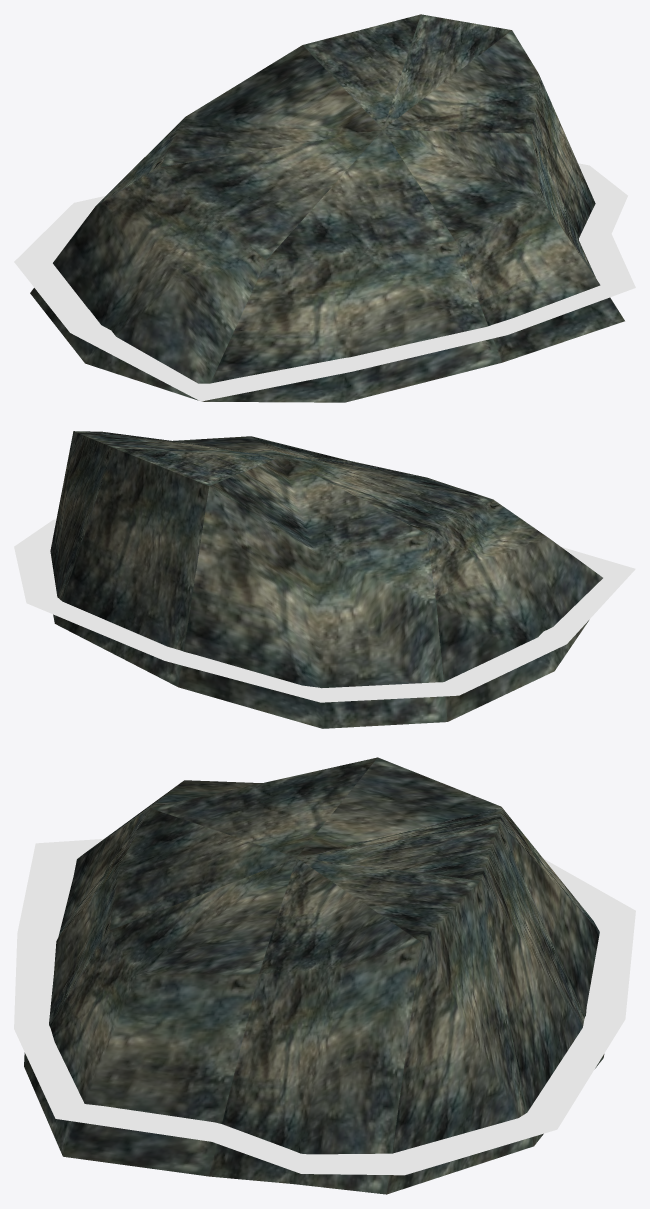
The model's file is pir_m_are_isl_rockSmall_dock_lod.fbx.
3 renders of one model, top to bottom at view 1: azimuth 30°, elevation 25°; view 2: azimuth 150°, elevation 25°; view 3: azimuth 270°, elevation 25°, orthographic. The views are drawn at different scales.
Visible parts, largest first — view 1: terrain_mesh, mesh_tide3; view 2: terrain_mesh, mesh_tide3; view 3: terrain_mesh, mesh_tide3.
Boxes of the visible parts, bbox=[...] form: terrain_mesh: bbox=[30, 14, 624, 402]; mesh_tide3: bbox=[14, 163, 635, 401]; terrain_mesh: bbox=[50, 431, 602, 728]; mesh_tide3: bbox=[14, 519, 635, 702]; terrain_mesh: bbox=[24, 757, 604, 1194]; mesh_tide3: bbox=[14, 839, 635, 1175].
Bounding box in the file's own units: 40504 × 13708 × 30493.
Materials: 2 (2 with a texture image).
